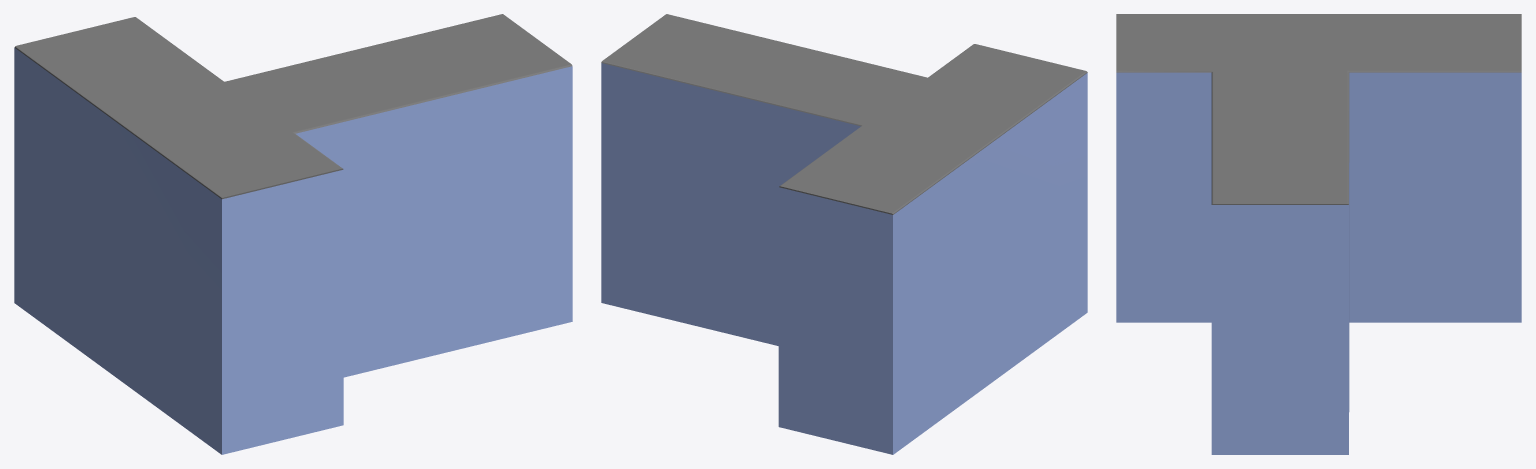
File: block_box.fbx
3 views of the same model, side by side, from view 1: azimuth 30°, elevation 25°; view 2: azimuth 150°, elevation 25°; view 3: azimuth 270°, elevation 25° (orthographic). The views are drawn at different scales.
Visible parts, largest first — view 1: block_box; view 2: block_box; view 3: block_box.
Boxes of the visible parts, bbox=[...] form: block_box: bbox=[14, 14, 572, 454]; block_box: bbox=[601, 14, 1087, 454]; block_box: bbox=[1116, 14, 1521, 454].
Bounding box in the file's own units: 197 × 121 × 177.
